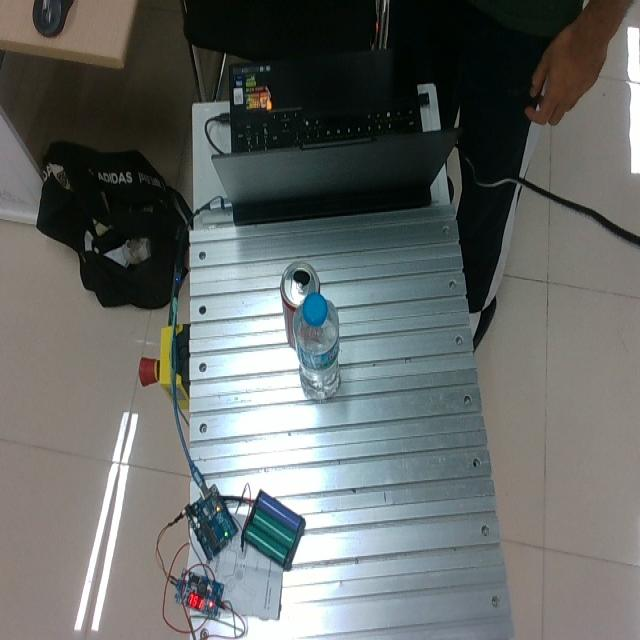coca: (279, 260, 320, 352)
lavie: (292, 291, 341, 400)
